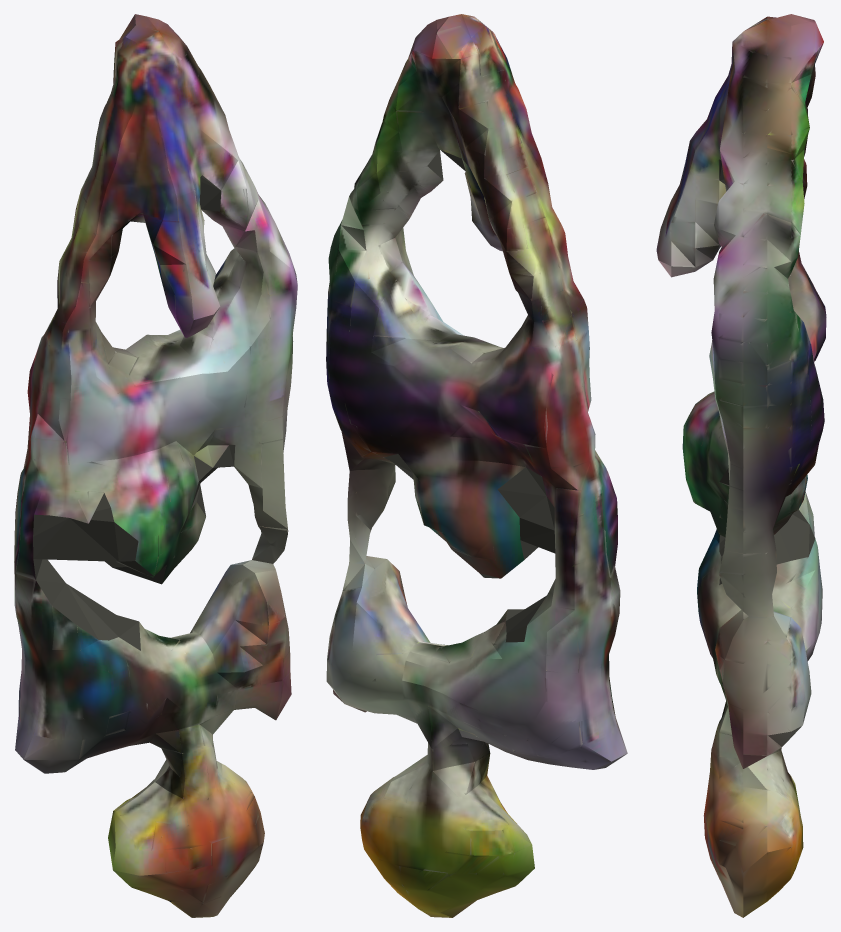
File: Scan6.obj
3 renders of one model, left to right at view 1: azimuth 30°, elevation 25°; view 2: azimuth 150°, elevation 25°; view 3: azimuth 270°, elevation 25°, orthographic. The views are drawn at different scales.
Parts seen in each view (by area): view 1: Sense1_Sense1_material0.005, Sense1_Sense1_m2.005_Sense1Image2.png, Sense1_Sense1_m2.005; view 2: Sense1_Sense1_material0.005, Sense1_Sense1_m2.005_Sense1Image2.png, Sense1_Sense1_m2.005; view 3: Sense1_Sense1_material0.005, Sense1_Sense1_m2.005_Sense1Image2.png, Sense1_Sense1_m2.005.
Boxes of the visible parts, x1,y1,x2,y2 form: Sense1_Sense1_material0.005: (14,14,297,917); Sense1_Sense1_m2.005_Sense1Image2.png: (15,14,292,917); Sense1_Sense1_m2.005: (33,175,235,650); Sense1_Sense1_material0.005: (326,14,627,917); Sense1_Sense1_m2.005_Sense1Image2.png: (326,14,627,917); Sense1_Sense1_m2.005: (384,150,555,642); Sense1_Sense1_material0.005: (658,14,826,917); Sense1_Sense1_m2.005_Sense1Image2.png: (656,14,824,917); Sense1_Sense1_m2.005: (719,159,815,584).
Size of the model in its own units: 4.51 by 14.02 by 2.44.
Materials: 3 (3 with a texture image).
